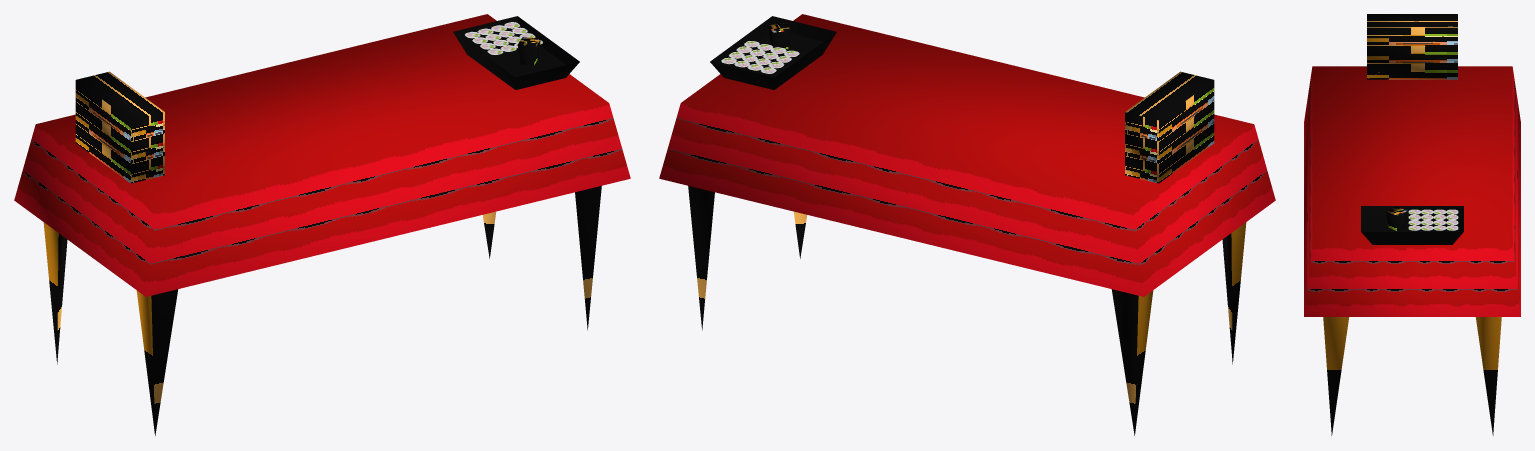
3 renders of one model, left to right at view 1: azimuth 30°, elevation 25°; view 2: azimuth 150°, elevation 25°; view 3: azimuth 270°, elevation 25°, orthographic. The views are drawn at different scales.
Visible parts, largest first — view 1: 3211kg_sh2_03; view 2: 3211kg_sh2_03; view 3: 3211kg_sh2_03.
Part boxes in pixels (<box>): 3211kg_sh2_03: <box>14,14,630,435</box>; 3211kg_sh2_03: <box>659,14,1275,435</box>; 3211kg_sh2_03: <box>1304,14,1520,435</box>.
Size of the model in its own units: 2 by 1.19 by 0.9419.
3 materials, 3 textured.
